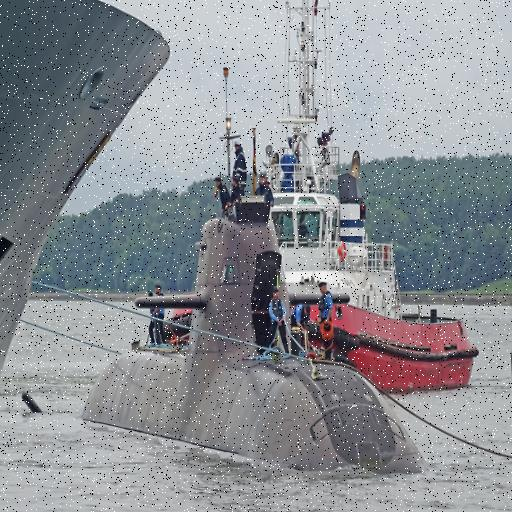submarine: (84, 215, 430, 469)
